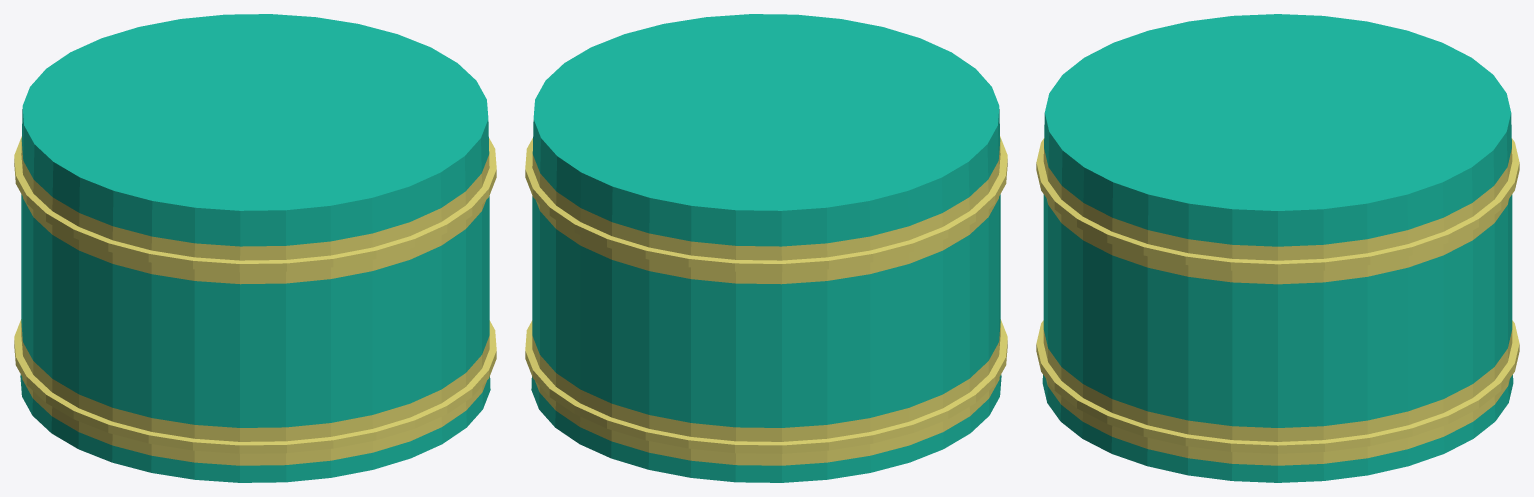
Rendered from _Teapot_Updated_before_shrink_bands.fbx.
3 renders of one model, left to right at view 1: azimuth 30°, elevation 25°; view 2: azimuth 150°, elevation 25°; view 3: azimuth 270°, elevation 25°, orthographic.
Parts seen in each view (by area): view 1: Cylinder.002; view 2: Cylinder.002; view 3: Cylinder.002.
Part boxes in pixels (left/top/right/bottom): Cylinder.002: left=14, top=14, right=496, bottom=482; Cylinder.002: left=525, top=14, right=1007, bottom=482; Cylinder.002: left=1036, top=14, right=1519, bottom=482.
Bounding box in the file's own units: 129 × 79.54 × 129.
